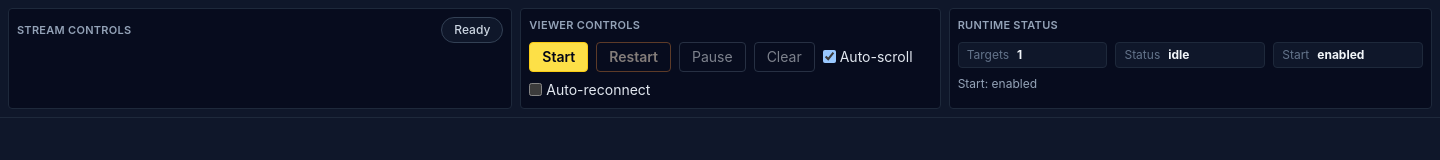
button action settings and stream batches › stops launching remaining selected log types when Stop is clicked during batch start
Click the button "Start".
click(559, 56)  # box [529,42,588,72]
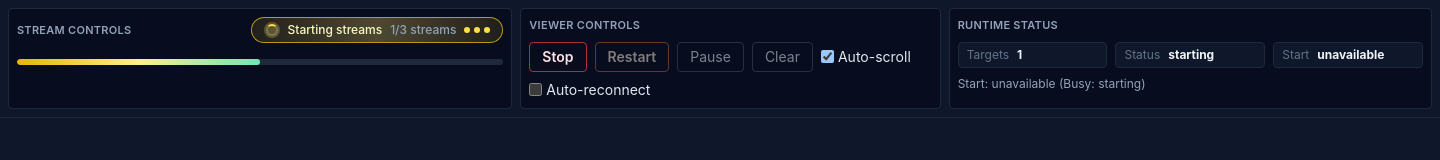
Click the button "Stop".
click(558, 56)  # box [529,42,586,72]
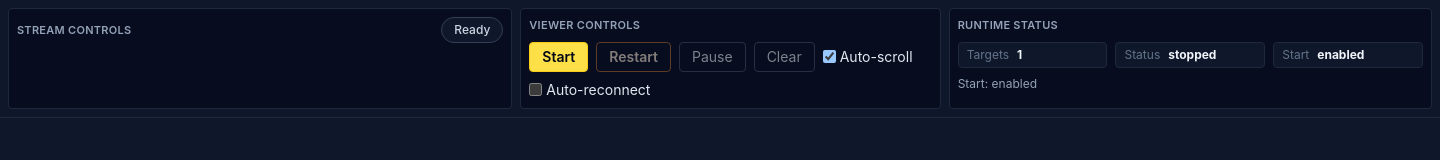
Result: the text "stopped" is shown at [1168,46,1216,62]
